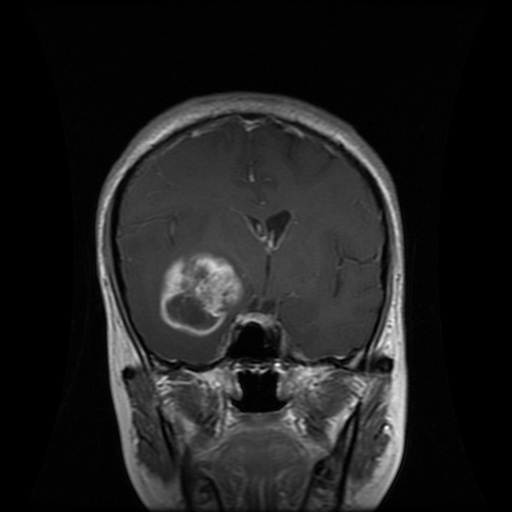glioma: (159, 243, 254, 339)
